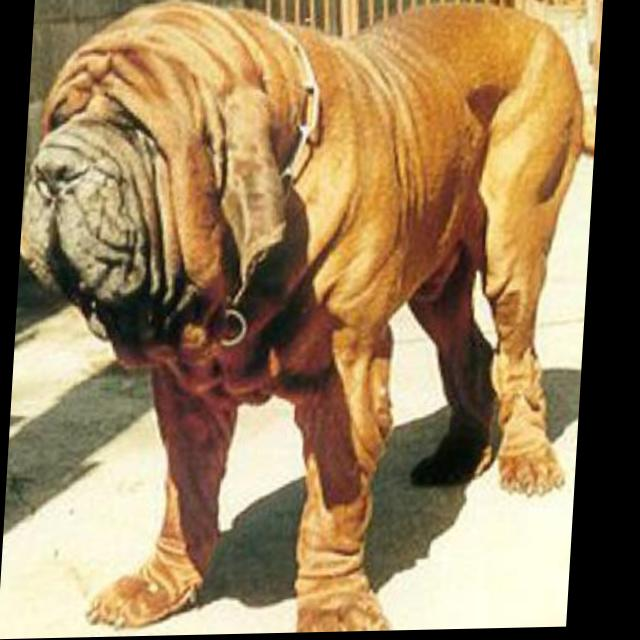mastino_napoletano: (7, 1, 606, 640)
